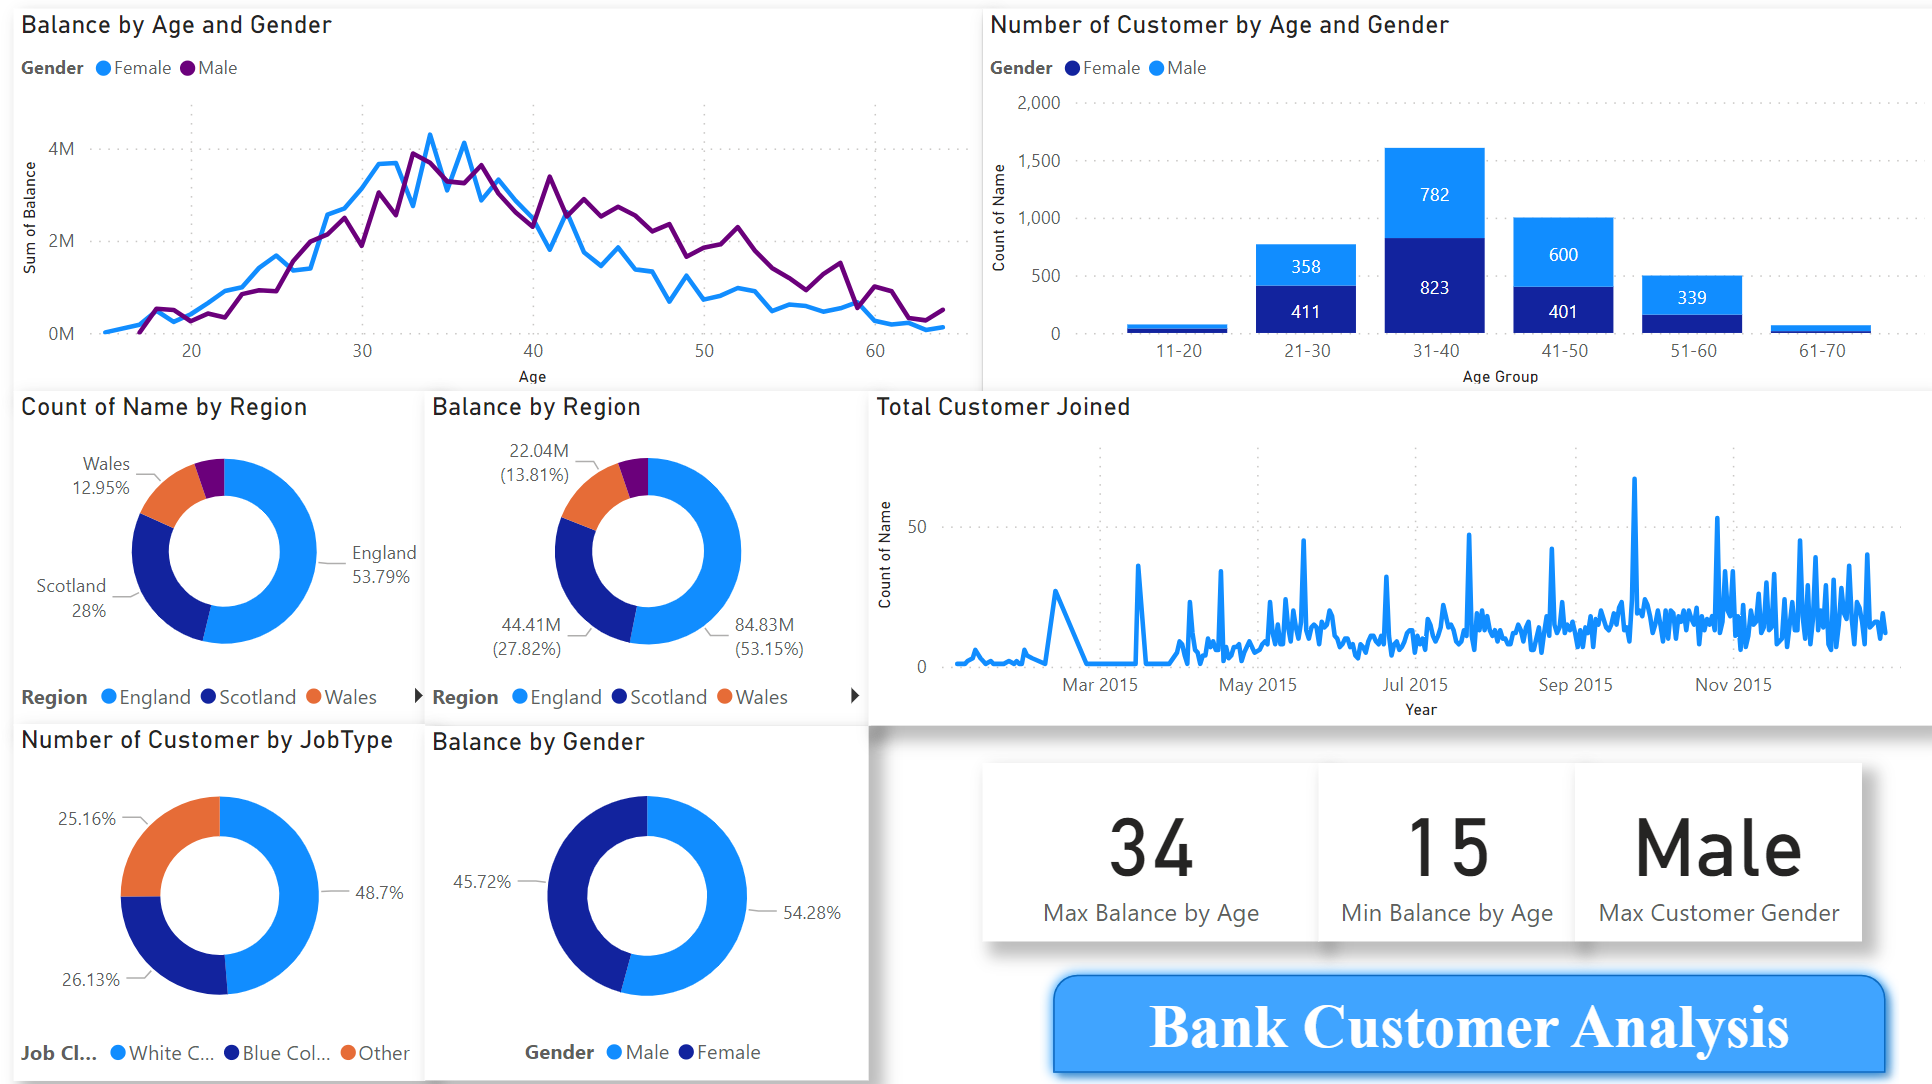

The page's visual inventory and layout, read from the dashboard file:
{"tool":"powerbi","page":{"name":"Page 1","canvas":[1280,720],"ordinal":0},"visuals":[{"type":"lineChart","title":"Balance by Age and Gender","fields":{"Y":["Bank-Data-Analysis.Balance"],"Category":["Bank-Data-Analysis.Age"],"Series":["Bank-Data-Analysis.Gender"]},"box":[18.6,10.8,636.9,252],"z":0},{"type":"columnChart","title":"Number of Customer by Age and Gender","fields":{"Y":["Bank-Data-Analysis.Name"],"Category":["Bank-Data-Analysis.Age Group"],"Series":["Bank-Data-Analysis.Gender"]},"box":[655.5,10.8,624.5,252],"z":1000},{"type":"donutChart","fields":{"Y":["Bank-Data-Analysis.Name"],"Category":["Bank-Data-Analysis.Region"]},"box":[18.3,262.7,276.5,220],"z":2000},{"type":"donutChart","title":" Balance by Region","fields":{"Category":["Bank-Data-Analysis.Region"],"Y":["Bank-Data-Analysis.Balance"]},"box":[288.7,262.7,293.3,220],"z":3000},{"type":"donutChart","title":"Number of Customer by JobType","fields":{"Category":["Bank-Data-Analysis.Job Classification"],"Y":["Bank-Data-Analysis.Name"]},"box":[18.6,480.8,270.5,235],"z":4000},{"type":"donutChart","title":" Balance by Gender","fields":{"Category":["Bank-Data-Analysis.Gender"],"Y":["Bank-Data-Analysis.Balance"]},"box":[289.1,482.3,292.2,233.4],"z":5000},{"type":"lineChart","title":"Total Customer Joined","fields":{"Y":["Bank-Data-Analysis.Name"],"Category":["Bank-Data-Analysis.Date Joined.Variation.Date Hierarchy.Year","Bank-Data-Analysis.Date Joined.Variation.Date Hierarchy.Quarter","Bank-Data-Analysis.Date Joined.Variation.Date Hierarchy.Month","Bank-Data-Analysis.Date Joined.Variation.Date Hierarchy.Day"]},"box":[580.8,262.3,699.2,219.9],"z":6000},{"type":"card","fields":{"Values":["Bank-Data-Analysis.Age"]},"box":[655.5,507.1,221.1,117.5],"z":6001},{"type":"card","fields":{"Values":["Bank-Data-Analysis.Age"]},"box":[876.5,507.1,168.5,117.5],"z":6002},{"type":"card","fields":{"Values":["Bank-Data-Analysis.Gender"]},"box":[1045,507.1,188.6,117.5],"z":6003},{"type":"shape","box":[693.5,636.9,565.2,82.5],"z":6004}]}

Visuals, with their boxes in screenshot pixels (x1, y1, x2, y2), scaled from the page's 1280x720 canvas onto the 1932x1084 screenshot:
"Balance by Age and Gender" lineChart: region(28, 16, 989, 396)
"Number of Customer by Age and Gender" columnChart: region(989, 16, 1931, 396)
donutChart - Bank-Data-Analysis.Name x Bank-Data-Analysis.Region: region(28, 396, 445, 727)
" Balance by Region" donutChart: region(436, 396, 878, 727)
"Number of Customer by JobType" donutChart: region(28, 724, 436, 1078)
" Balance by Gender" donutChart: region(436, 726, 877, 1078)
"Total Customer Joined" lineChart: region(877, 395, 1931, 726)
card - Bank-Data-Analysis.Age: region(989, 763, 1323, 940)
card - Bank-Data-Analysis.Age: region(1323, 763, 1577, 940)
card - Bank-Data-Analysis.Gender: region(1577, 763, 1862, 940)
shape: region(1047, 959, 1900, 1083)
